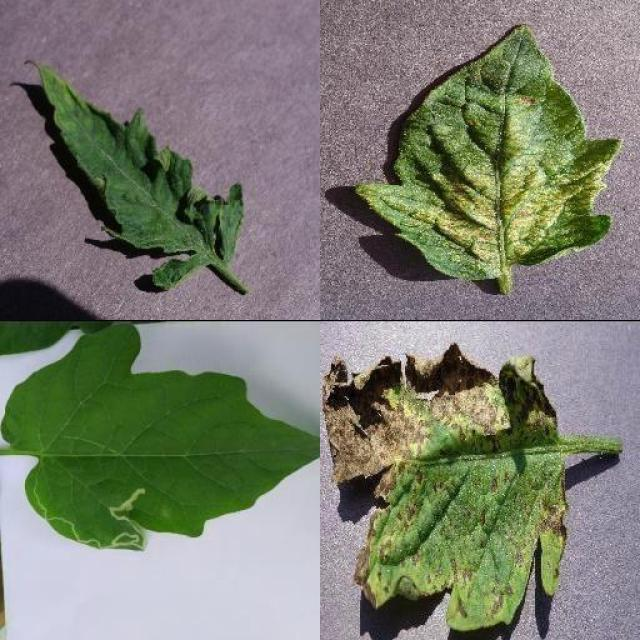Septoria: (322, 340, 568, 631)
